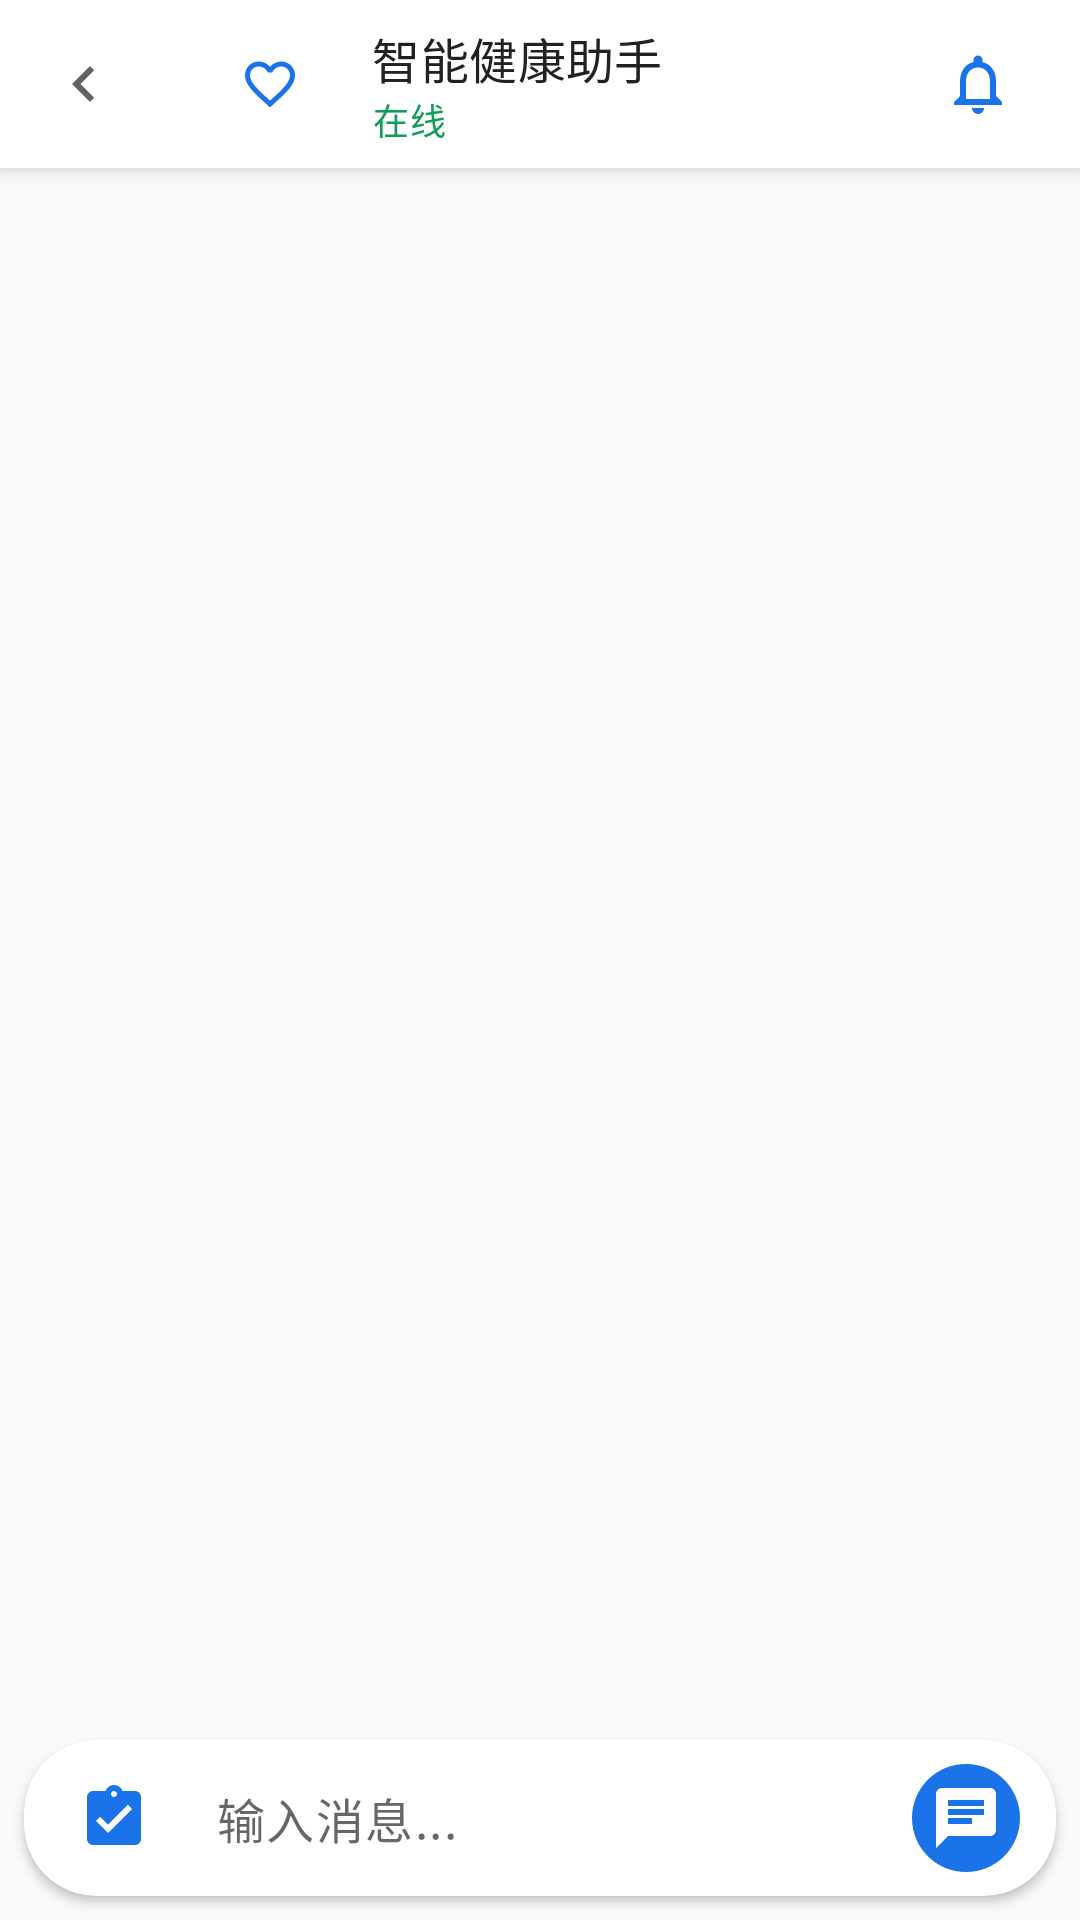

Where icons sit on this 1080px×1920px app screen, as rect(x1, y1, x2, y2):
chat: rect(912, 1764, 1020, 1872)
health: rect(245, 61, 295, 107)
